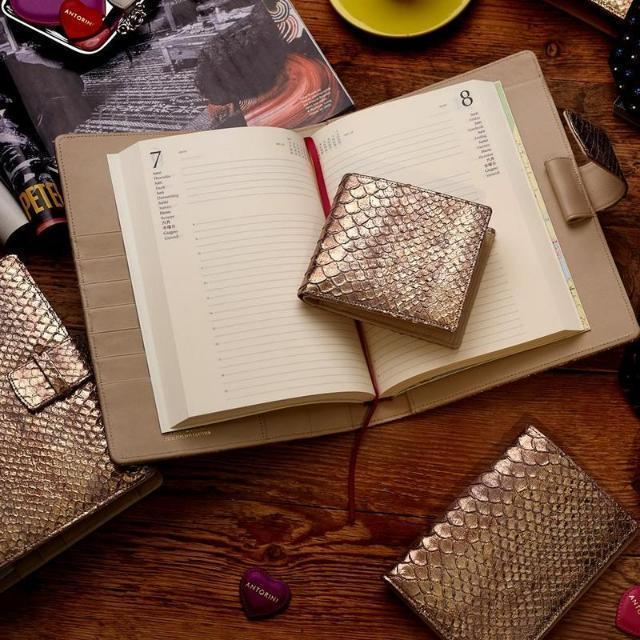wallet: (384, 422, 640, 640), (300, 171, 492, 349)
